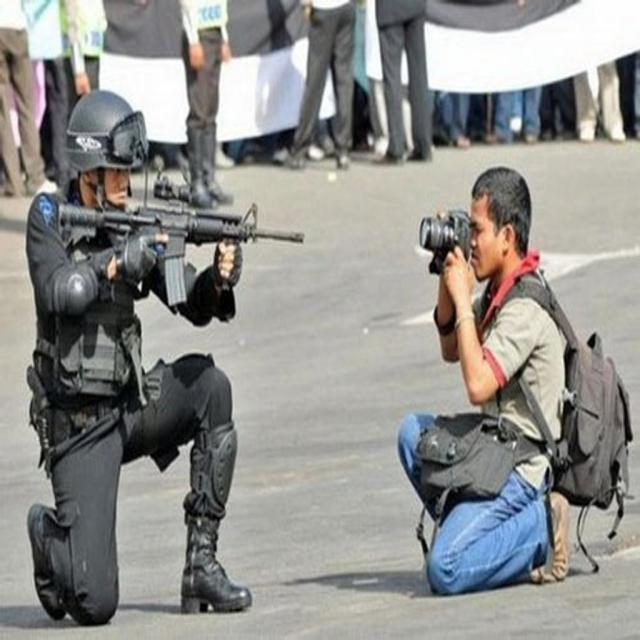nomask: (470, 196, 508, 281), (93, 145, 128, 215)
